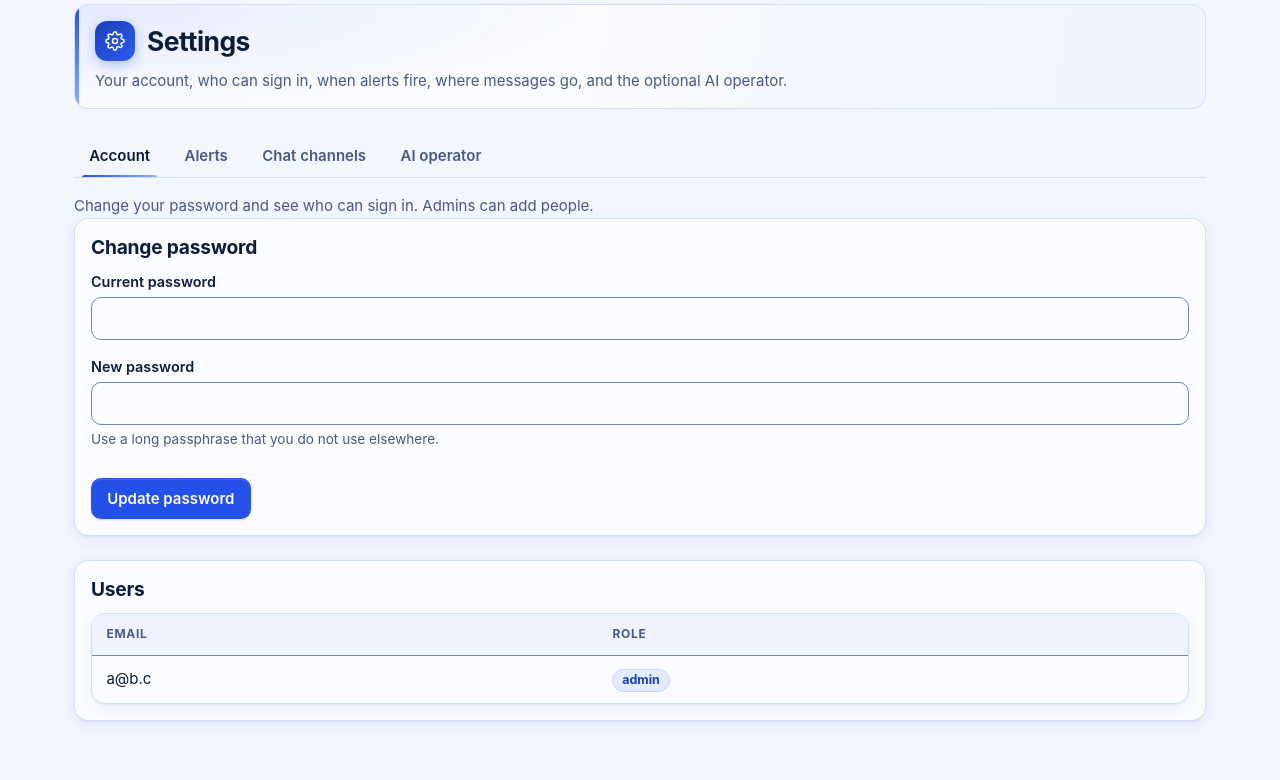
Settings M6 › links email with Send code then a typed code
Click the tab "Chat channels" at {"x": 314, "y": 155}, box [247, 133, 381, 177]
(page scrolled)
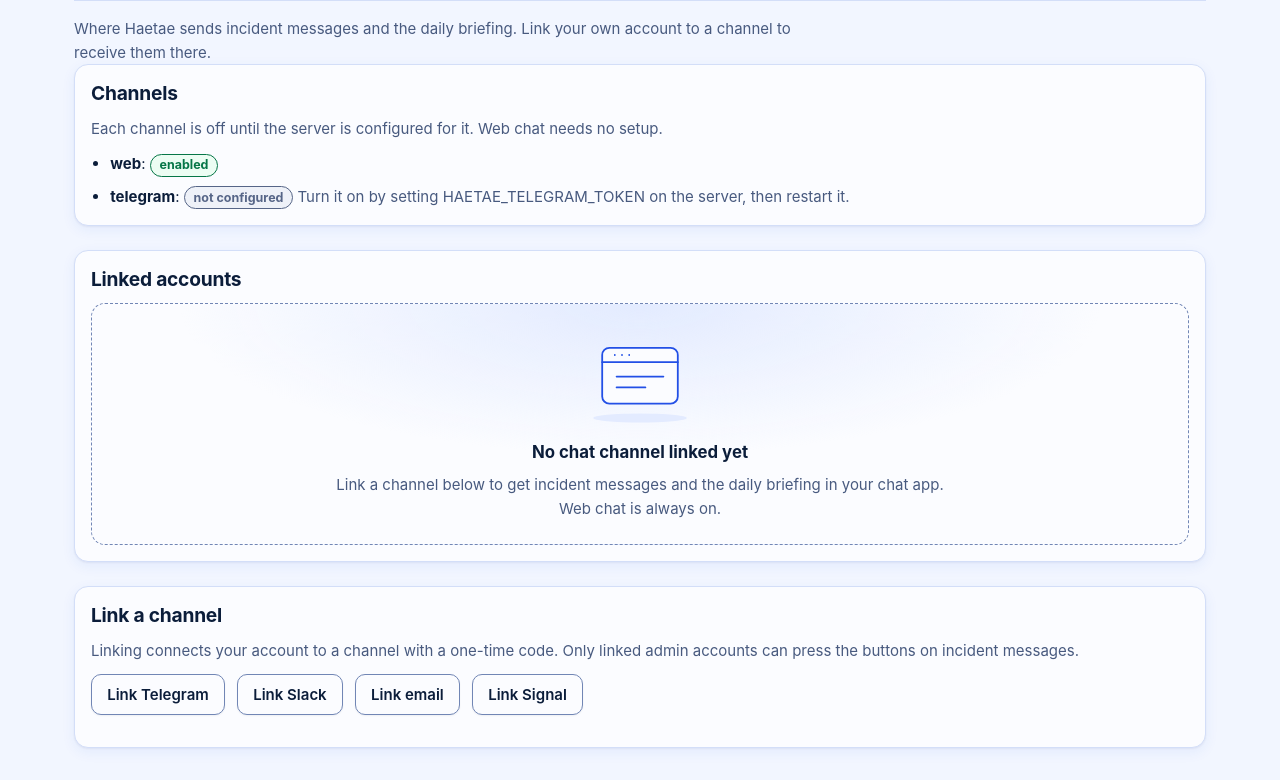
Check: the text "web" is shown, box [110, 154, 141, 173]
Click the button "Link email" at {"x": 407, "y": 695}, box [355, 674, 460, 715]
(page scrolled)
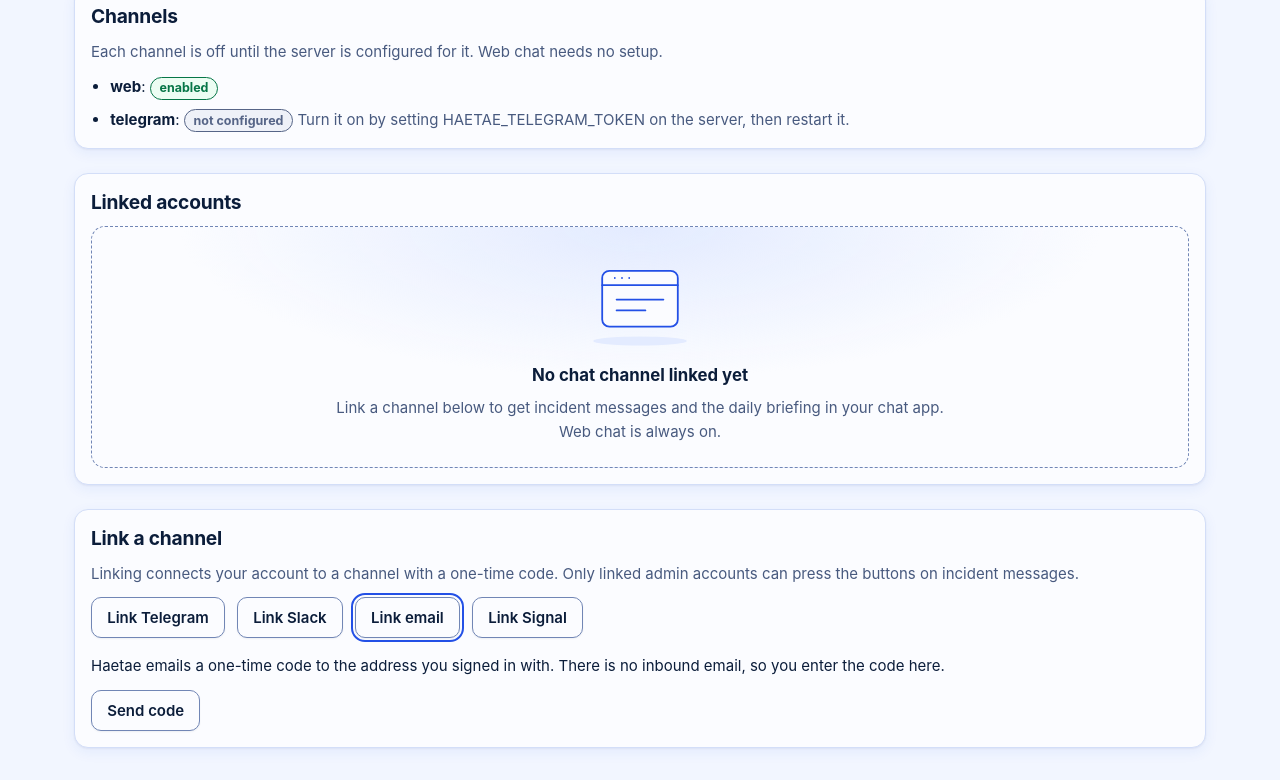
Click the button "Send code" at {"x": 146, "y": 710}, box [91, 690, 200, 731]
(page scrolled)
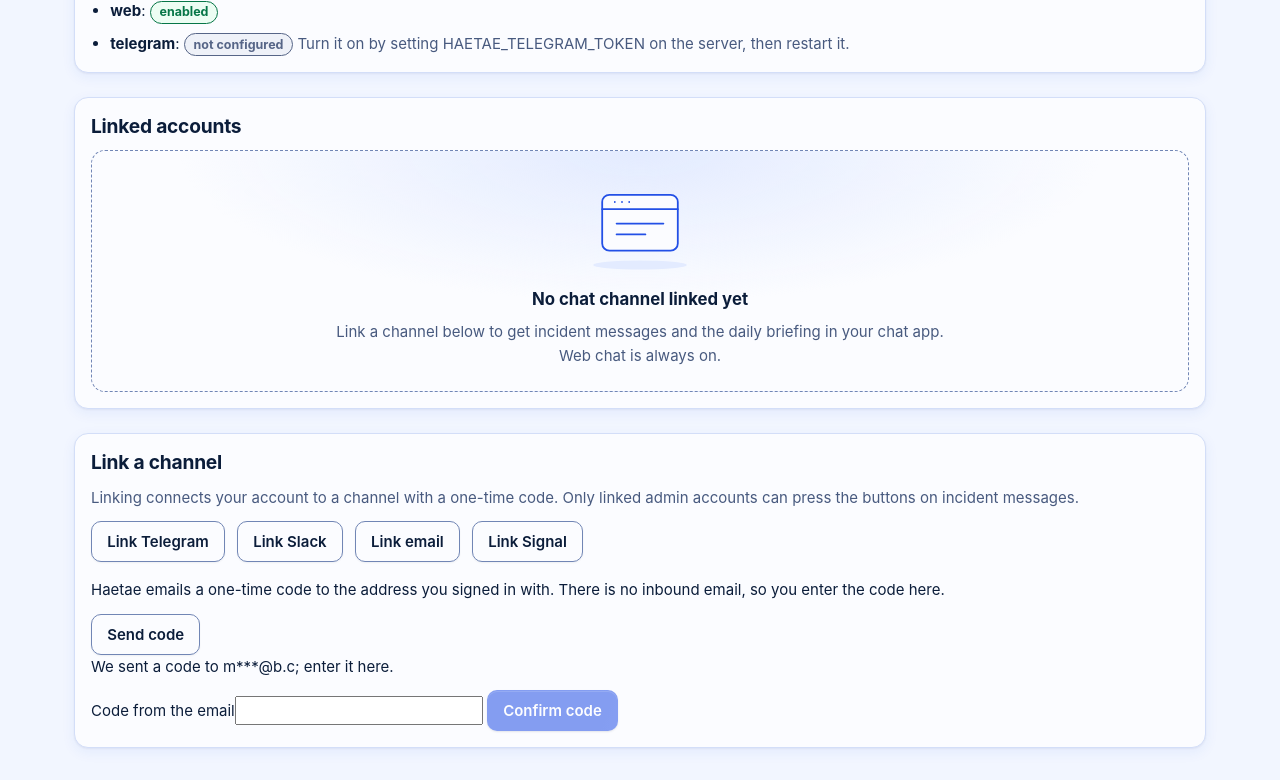
Check: the text "We sent a code to m***@b.c; enter it here." is shown, box [91, 657, 394, 676]
Type "WRONG123" into the field labelled "Code from the email" at {"x": 359, "y": 711}, box [235, 696, 483, 725]
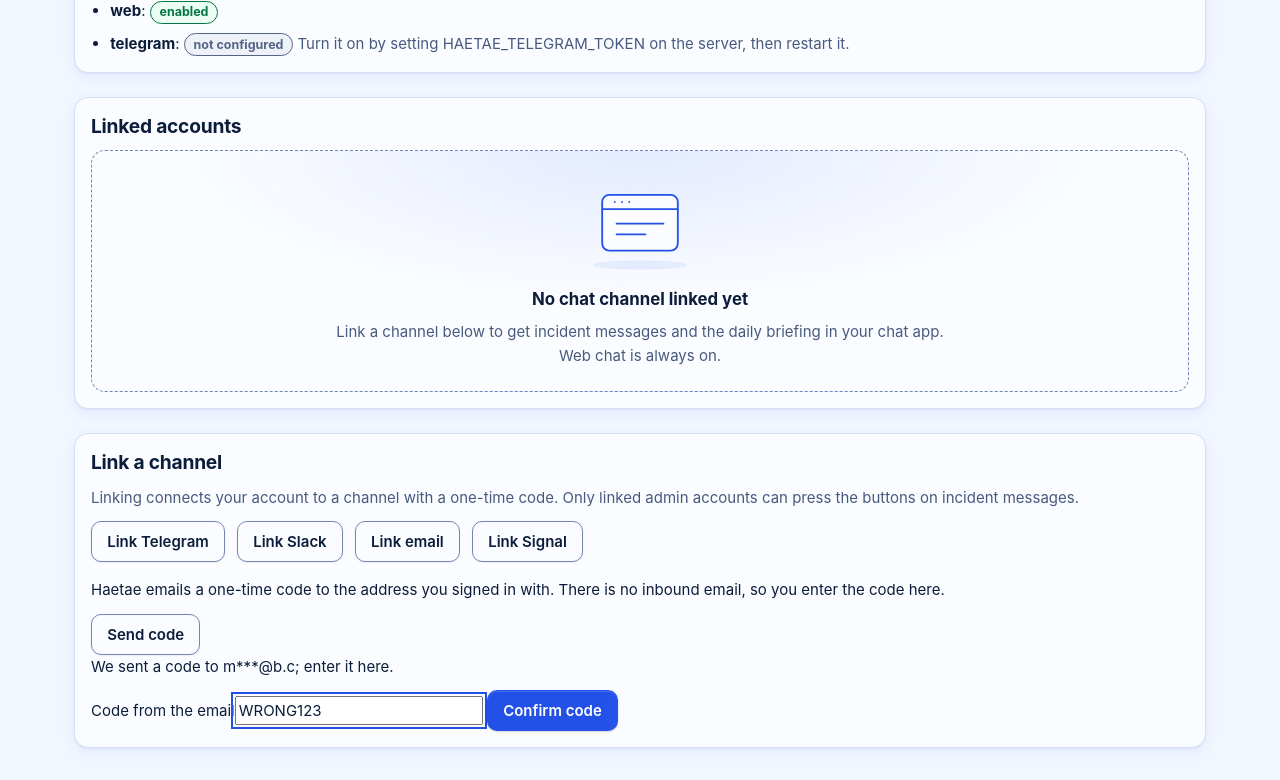
Click the button "Confirm code" at {"x": 552, "y": 711}, box [487, 690, 618, 731]
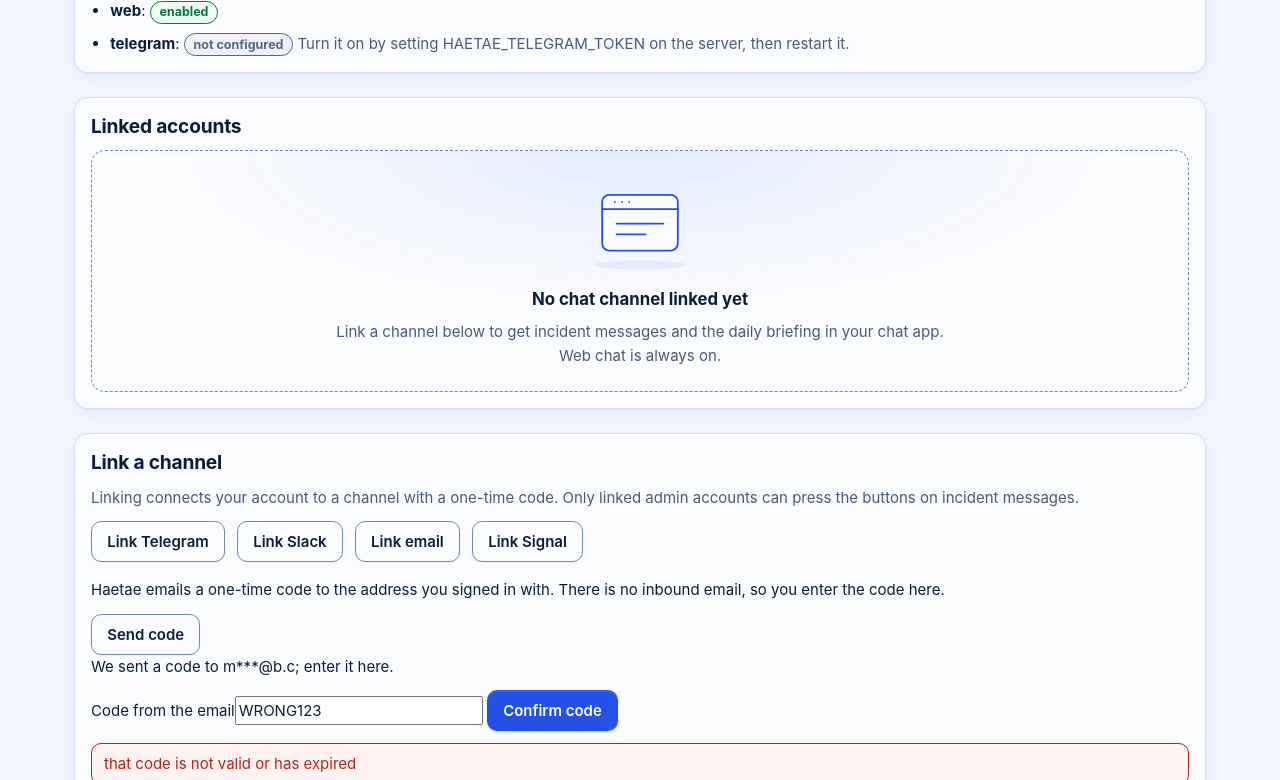
Check: the message shows "not valid or has expired", box [104, 754, 356, 773]
Replace the text in the field labelled "Code from the email" with "abcd2345" at {"x": 359, "y": 711}, box [235, 696, 483, 725]
Click the button "Confirm code" at {"x": 552, "y": 711}, box [487, 690, 618, 731]
(page scrolled)
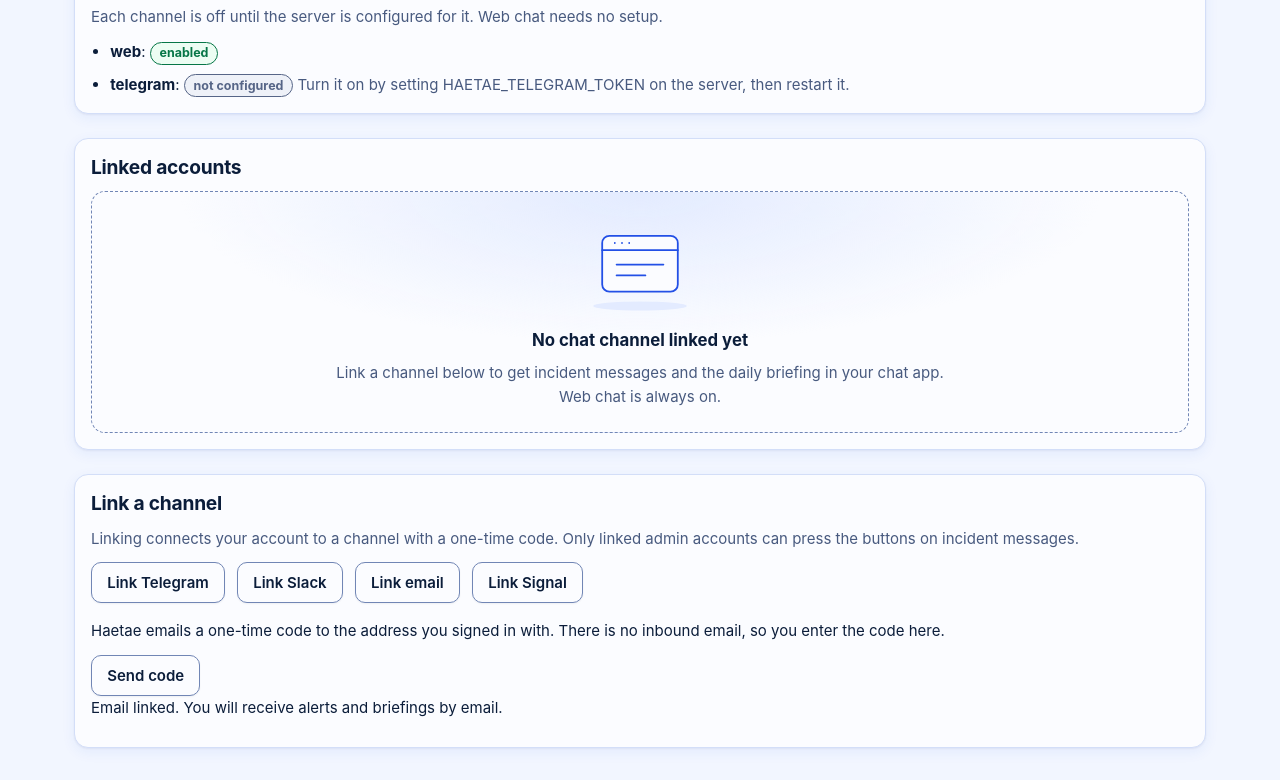
Check: the message shows "Email linked", box [91, 698, 503, 717]
